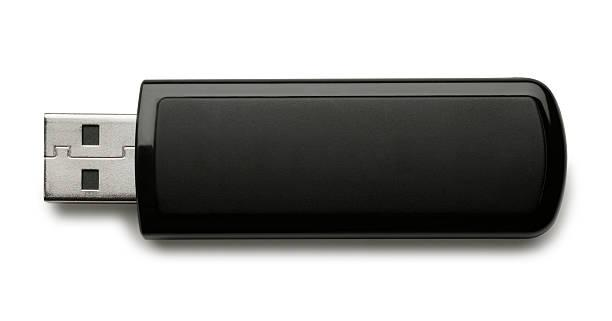USB Flash Drive: (43, 77, 568, 241)
